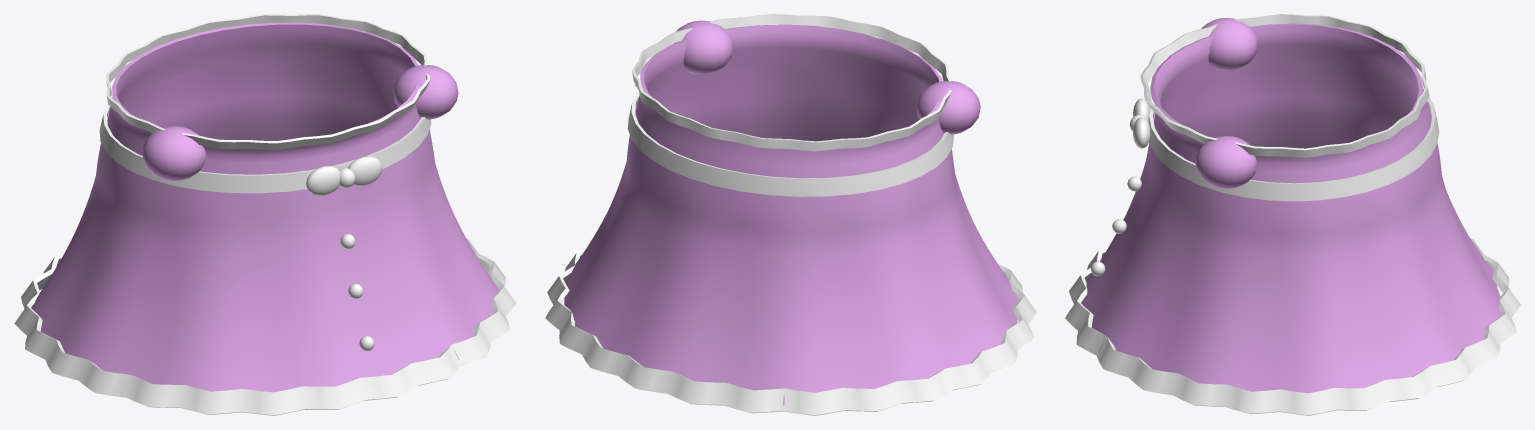
File: princess_dress.fbx
The picture shows the model from 3 angles, left to right: view 1: azimuth 30°, elevation 25°; view 2: azimuth 150°, elevation 25°; view 3: azimuth 270°, elevation 25°; orthographic projection. The views are drawn at different scales.
Parts seen in each view (by area): view 1: Dress_Skirt, Dress_Bodice, Dress_HemRuffle, Dress_Neckline, Dress_Sash, Dress_PuffL, Dress_PuffR, Dress_BowL, Dress_BowR; view 2: Dress_Skirt, Dress_Bodice, Dress_HemRuffle, Dress_Neckline, Dress_Sash, Dress_PuffL, Dress_PuffR; view 3: Dress_Skirt, Dress_Bodice, Dress_HemRuffle, Dress_Neckline, Dress_Sash, Dress_PuffR, Dress_PuffL, Dress_BowR.
Part boxes in pixels (<box>): Dress_Skirt: <box>31,59,498,392</box>; Dress_Bodice: <box>107,22,420,174</box>; Dress_HemRuffle: <box>14,238,516,415</box>; Dress_Neckline: <box>106,14,430,150</box>; Dress_Sash: <box>99,97,431,193</box>; Dress_PuffL: <box>142,126,206,180</box>; Dress_PuffR: <box>393,65,458,119</box>; Dress_BowL: <box>306,166,340,195</box>; Dress_BowR: <box>348,156,382,186</box>; Dress_Skirt: <box>564,64,1018,405</box>; Dress_Bodice: <box>635,24,943,178</box>; Dress_HemRuffle: <box>545,249,1036,415</box>; Dress_Neckline: <box>632,14,951,151</box>; Dress_Sash: <box>627,90,953,196</box>; Dress_PuffL: <box>916,81,980,134</box>; Dress_PuffR: <box>673,20,733,74</box>; Dress_Skirt: <box>1081,60,1501,393</box>; Dress_Bodice: <box>1150,23,1431,183</box>; Dress_HemRuffle: <box>1065,238,1520,415</box>; Dress_Neckline: <box>1140,14,1429,157</box>; Dress_Sash: <box>1148,89,1439,201</box>; Dress_PuffR: <box>1195,136,1257,188</box>; Dress_PuffL: <box>1201,18,1258,70</box>; Dress_BowR: <box>1133,117,1150,148</box>.
Bounding box in the file's own units: 20.99 × 10.99 × 19.46.
